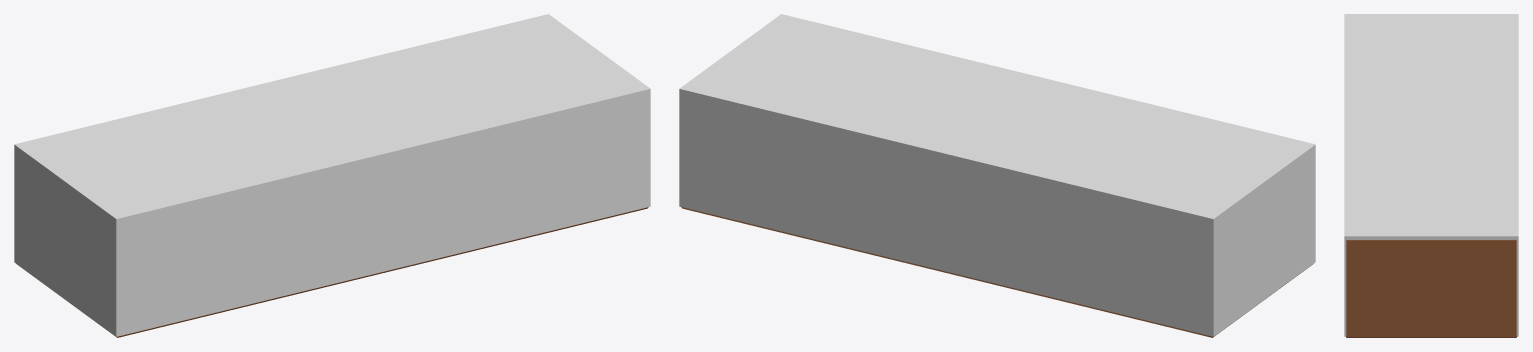
Rendered from table-d.glb.
The picture shows the model from 3 angles, left to right: view 1: azimuth 30°, elevation 25°; view 2: azimuth 150°, elevation 25°; view 3: azimuth 270°, elevation 25°; orthographic projection. The views are drawn at different scales.
Visible parts, largest first — view 1: Table D_col, Table D; view 2: Table D_col, Table D; view 3: Table D_col, Table D.
Part boxes in pixels (<box>): Table D_col: <box>14,14,650,336</box>; Table D: <box>17,207,648,337</box>; Table D_col: <box>679,14,1315,336</box>; Table D: <box>681,207,1312,337</box>; Table D_col: <box>1344,14,1518,336</box>; Table D: <box>1346,240,1516,337</box>.
Bounding box in the file's own units: 12.78 × 2.75 × 4.23.
